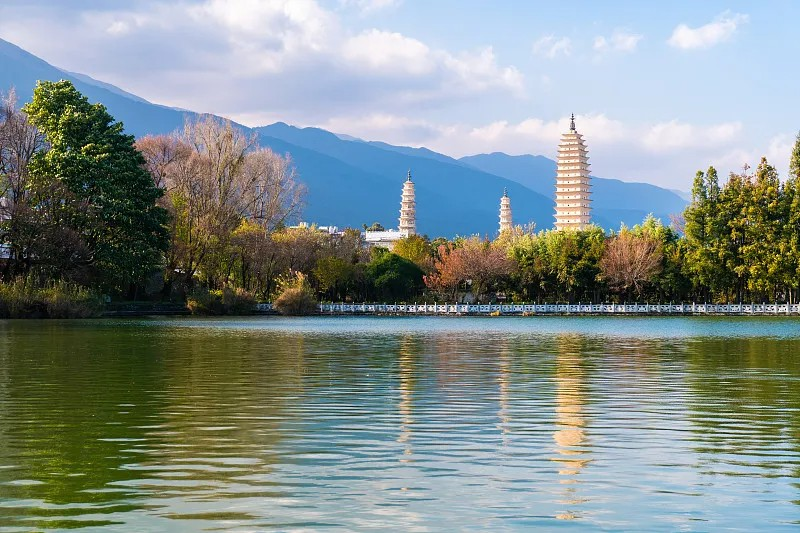ThreePagoda: (553, 113, 593, 231)
